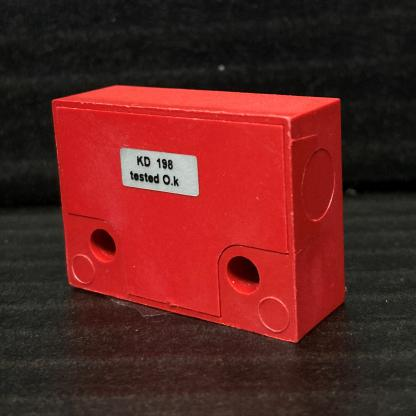SP0000001: (30, 41, 388, 364)
